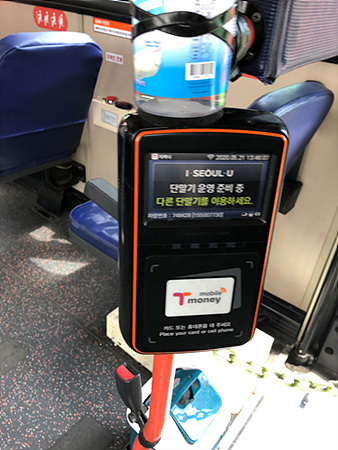terminal: (123, 110, 272, 349)
